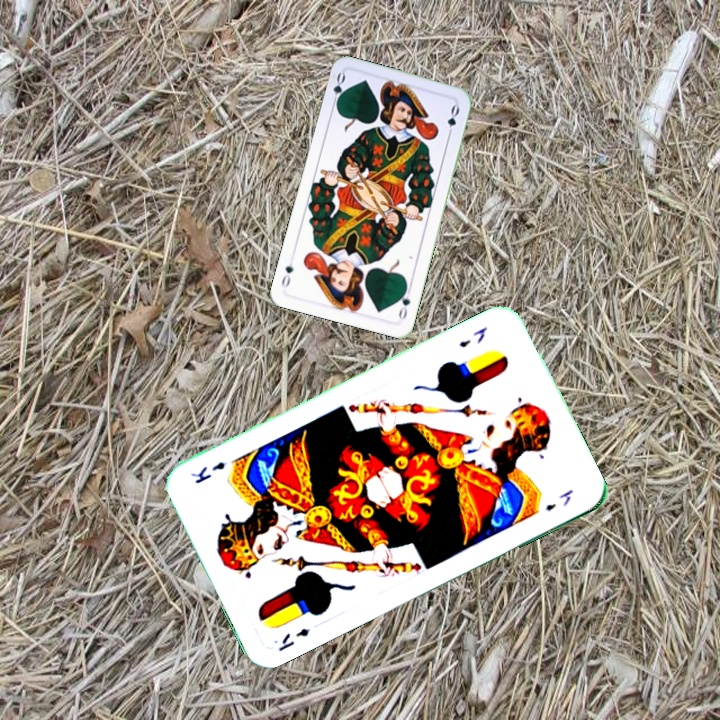EK: (274, 624, 312, 654), (455, 322, 491, 351)
GO: (328, 69, 348, 110), (394, 282, 414, 322)
